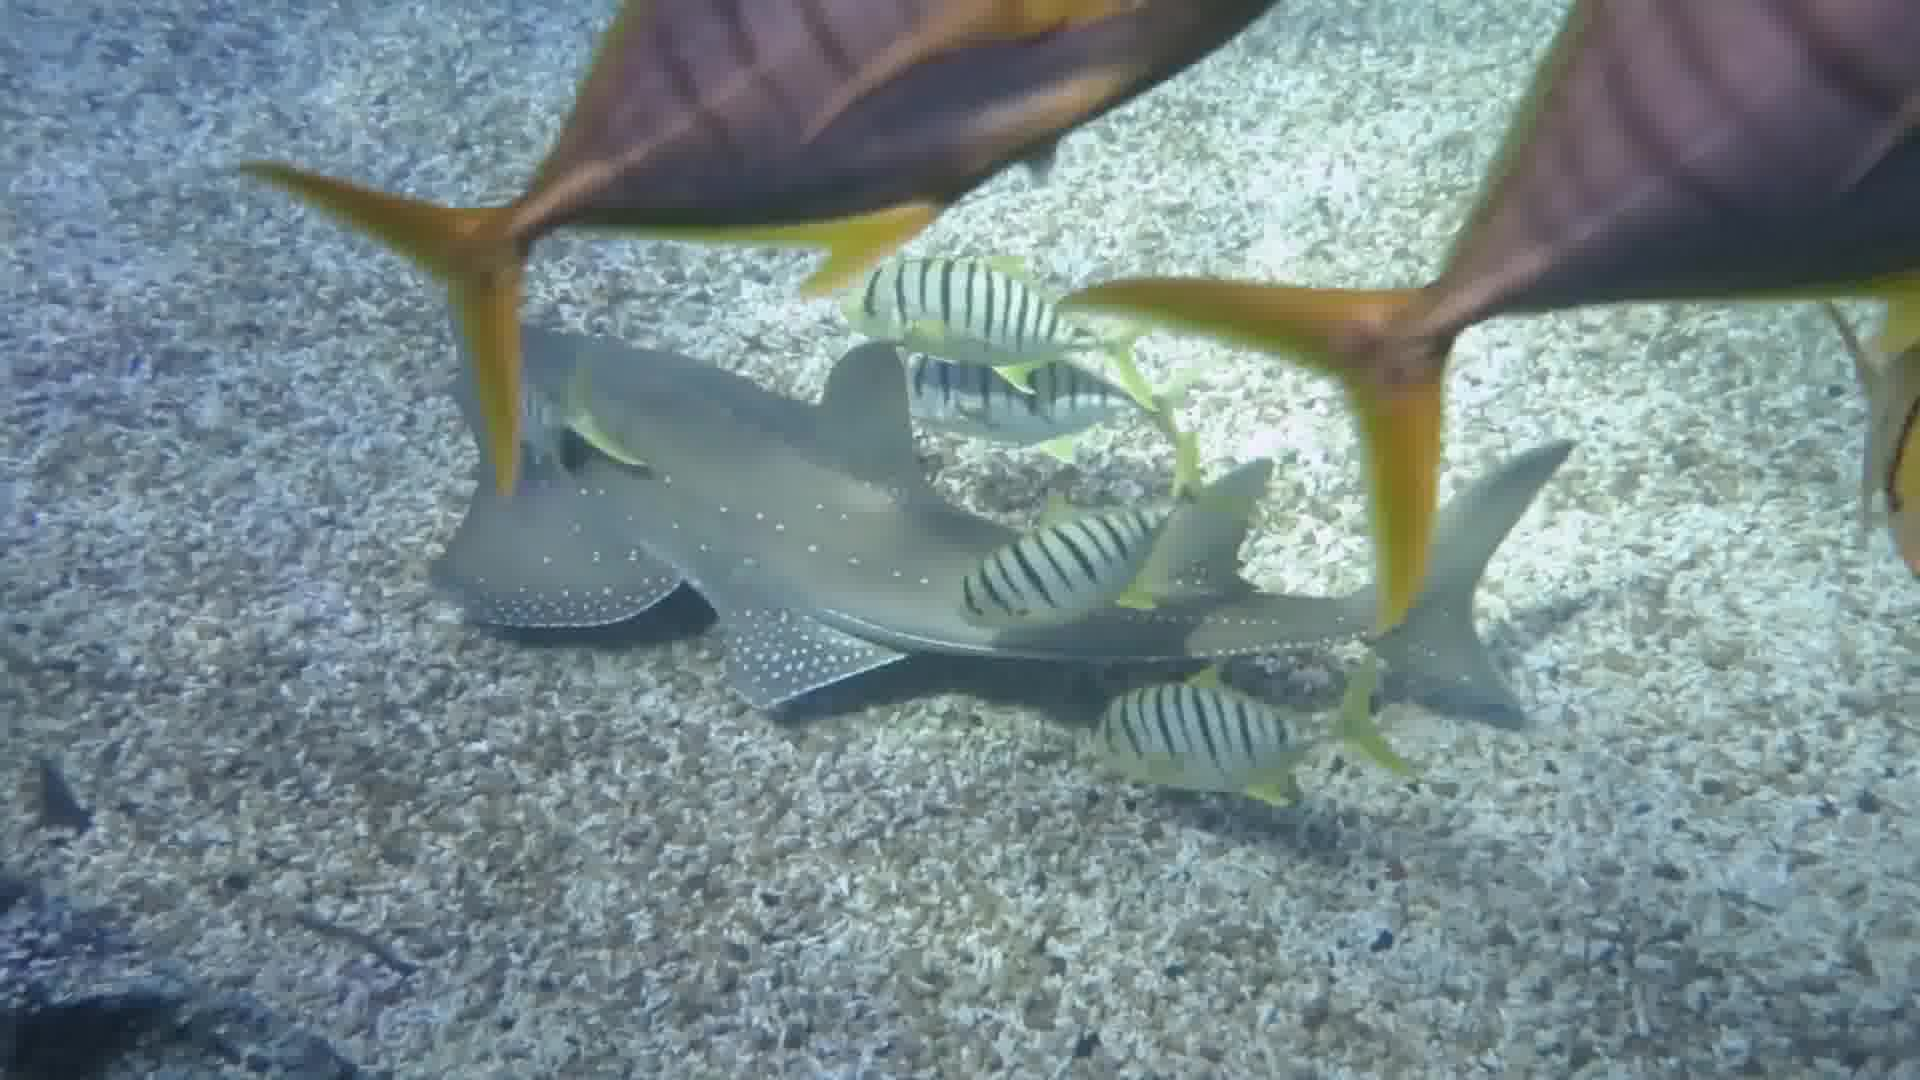Rhychobatus djiddensis: (465, 324, 1523, 818)
